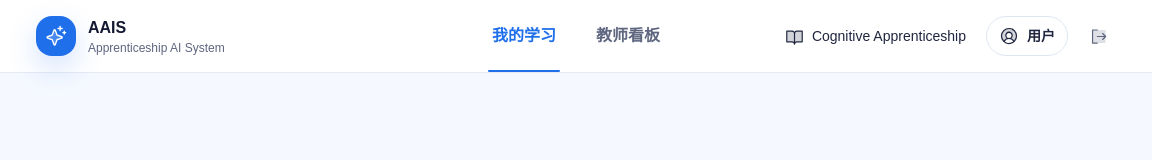
it: AAIS Header › keeps the current page active and focuses an announced error when revocation fails
Click the button named "退出账号" at x=1098, y=36, box [1076, 14, 1120, 58]
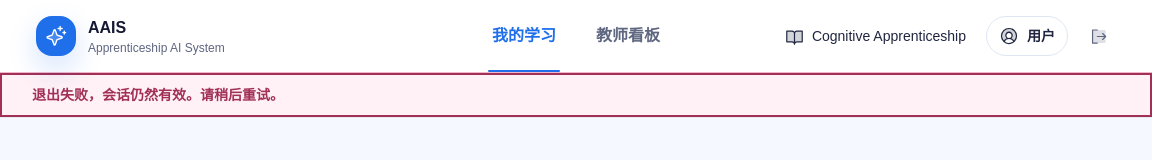
Check: the message reads "退出失败，会话仍然有效。请稍后重试。", box [32, 87, 284, 103]
